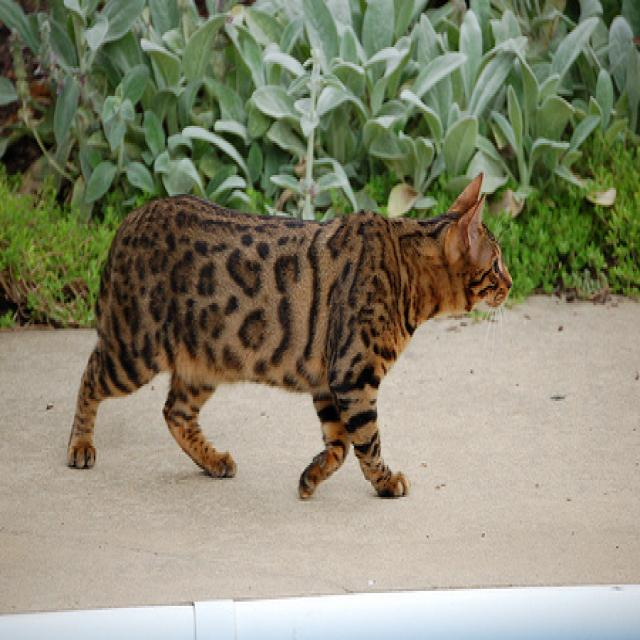Bengal: (68, 168, 519, 526)
